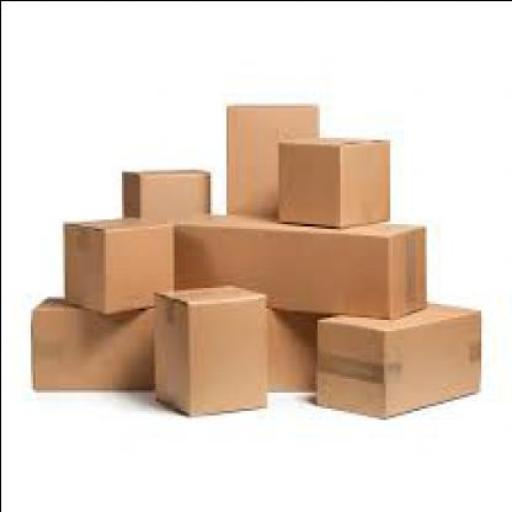cardboard: (175, 212, 428, 314), (316, 298, 482, 415), (154, 280, 266, 414), (64, 212, 177, 316), (32, 294, 153, 390), (278, 132, 393, 225), (225, 98, 319, 211), (264, 306, 326, 392), (125, 164, 212, 220)
